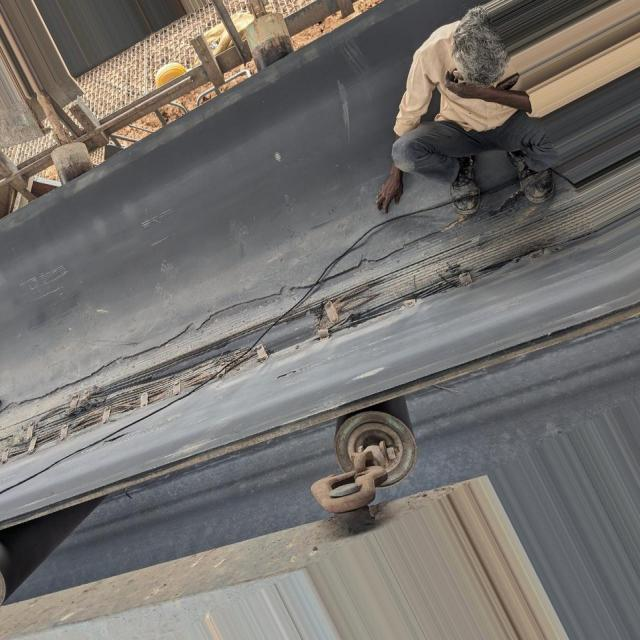Human: (371, 5, 554, 220)
Roller: (0, 495, 111, 600), (334, 397, 418, 490)
Tear: (0, 208, 545, 455)
